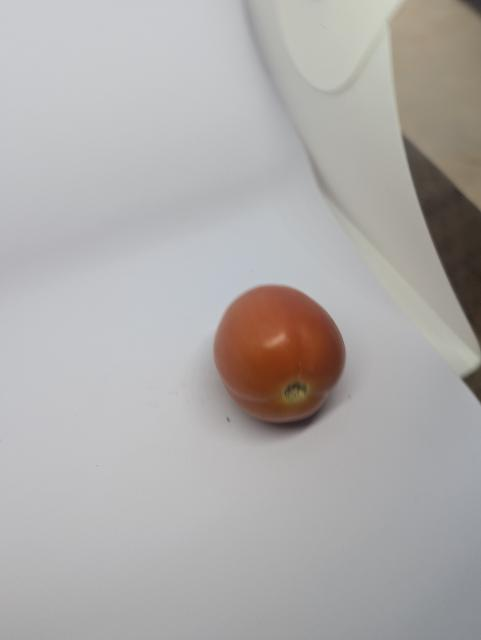red: (202, 267, 357, 434)
